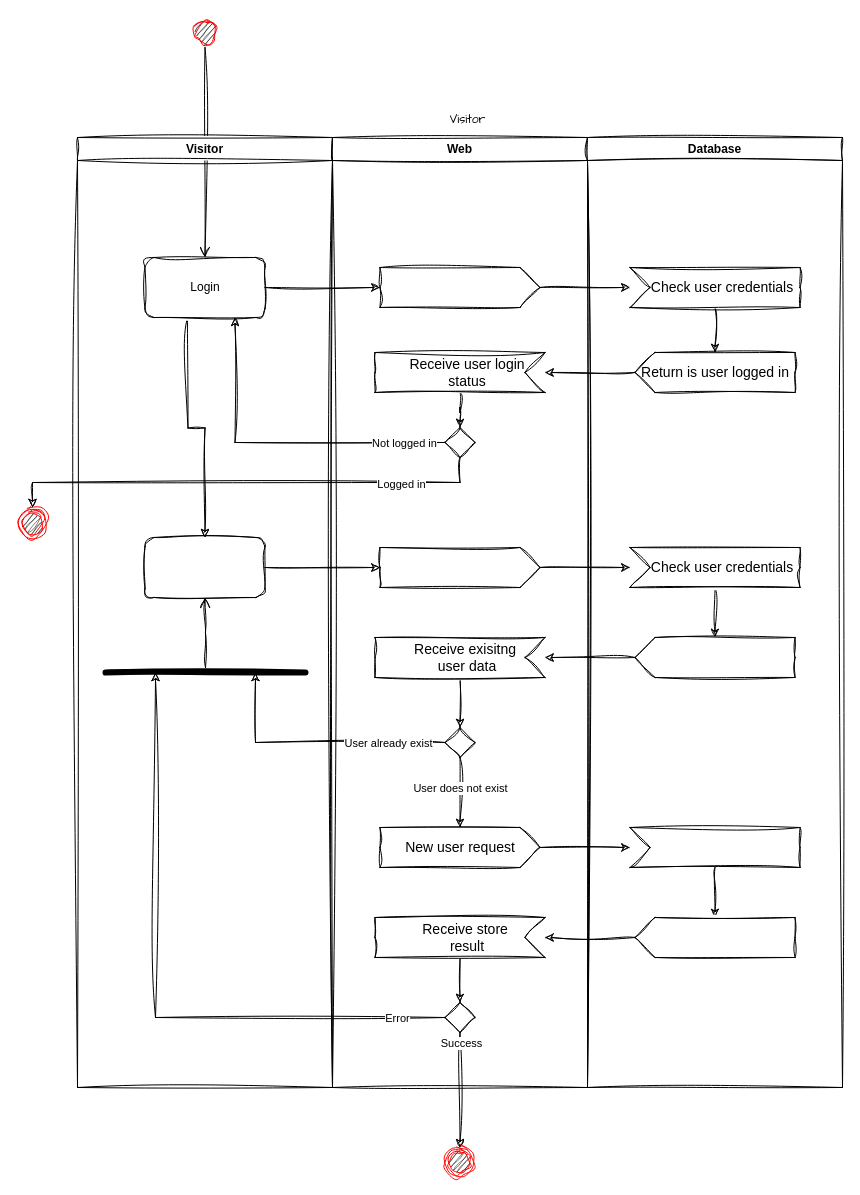
The diagram is 860 pixels wide and 1195 high, and some of its shapes have lost their labels. The centre of each missing label's shape, as x and y in pixels:
Login request: point (459, 287)
Register: point (204, 567)
Register request: point (459, 567)
Return existing user: point (714, 657)
Return store result: point (714, 937)
Store new user data: point (714, 847)
